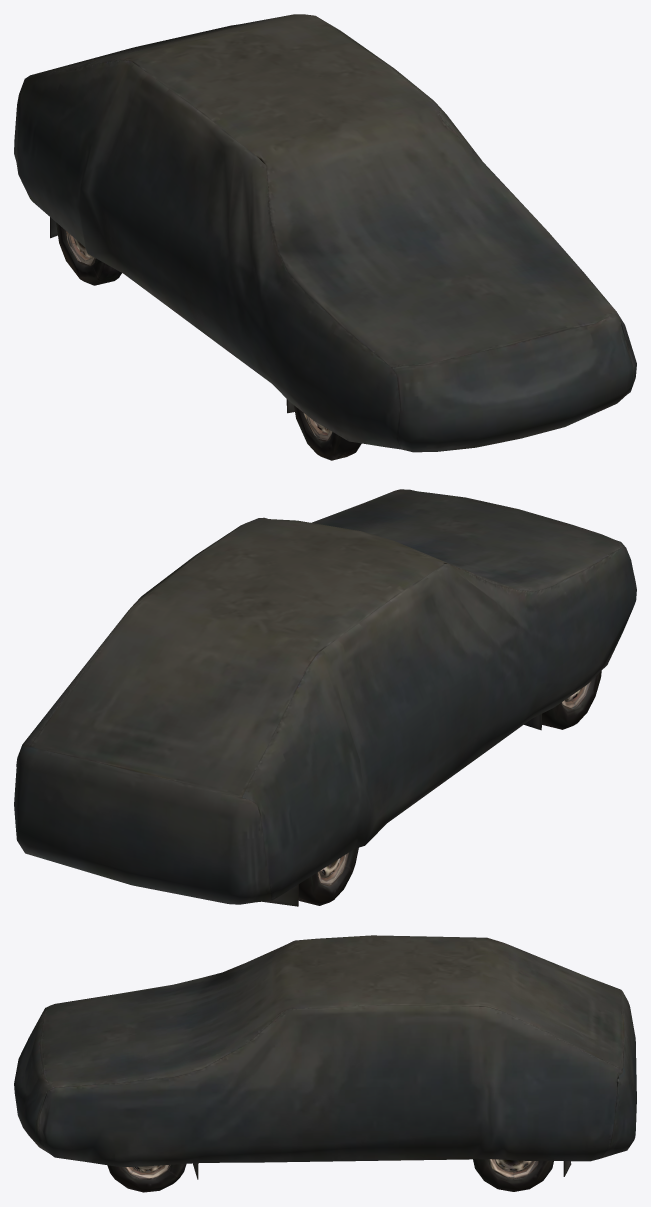
File: covered_car.glb
The picture shows the model from 3 angles, top to bottom: view 1: azimuth 30°, elevation 25°; view 2: azimuth 150°, elevation 25°; view 3: azimuth 270°, elevation 25°; orthographic projection. The views are drawn at different scales.
Visible parts, largest first — view 1: covered_car_wheel_01; view 2: covered_car_wheel_01; view 3: covered_car_wheel_01.
Boxes of the visible parts, <box> form: covered_car_wheel_01: <box>14,14,636,460</box>; covered_car_wheel_01: <box>14,489,636,906</box>; covered_car_wheel_01: <box>14,935,636,1192</box>.
Size of the model in its own units: 1.79 by 1.41 by 4.38.
Materials: 1 (1 with a texture image).
